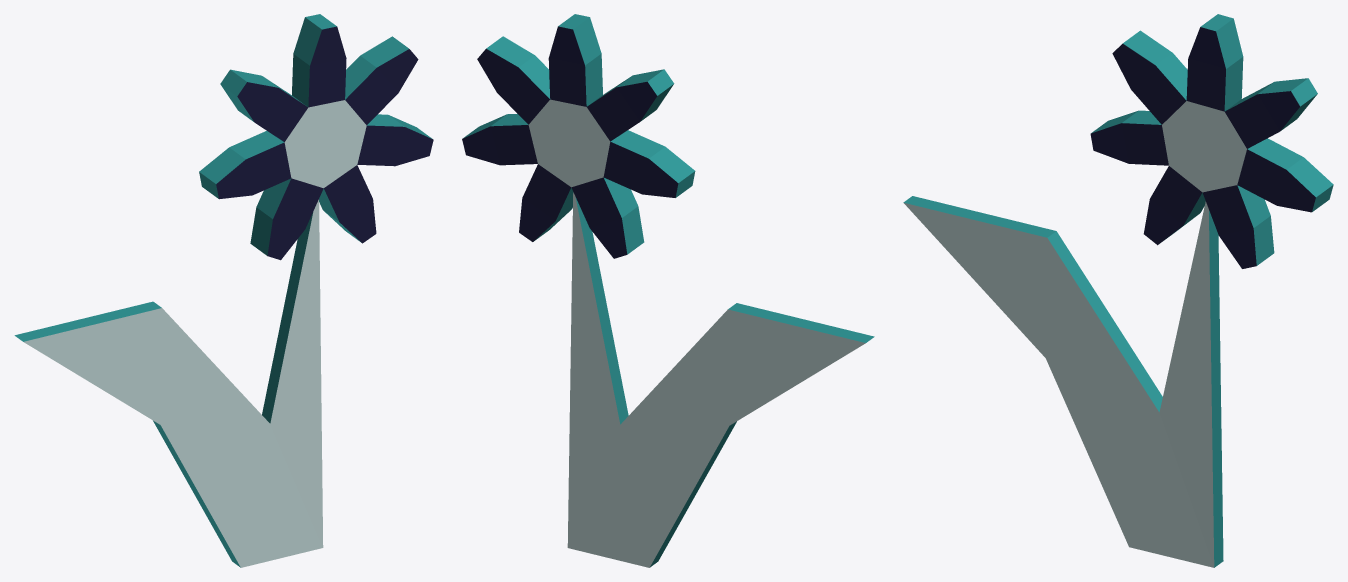
The model's file is SM_Flower.FBX.
3 views of the same model, side by side, from view 1: azimuth 30°, elevation 25°; view 2: azimuth 150°, elevation 25°; view 3: azimuth 330°, elevation 25° (orthographic). The views are drawn at different scales.
Visible parts, largest first — view 1: SM_Flower; view 2: SM_Flower; view 3: SM_Flower.
Boxes of the visible parts, x1=… form: SM_Flower: x1=14, y1=14, x2=433, y2=567; SM_Flower: x1=462, y1=14, x2=874, y2=567; SM_Flower: x1=903, y1=14, x2=1333, y2=567.
Size of what is drawn, in the model's own units: 31.15 by 38.62 by 2.28.
